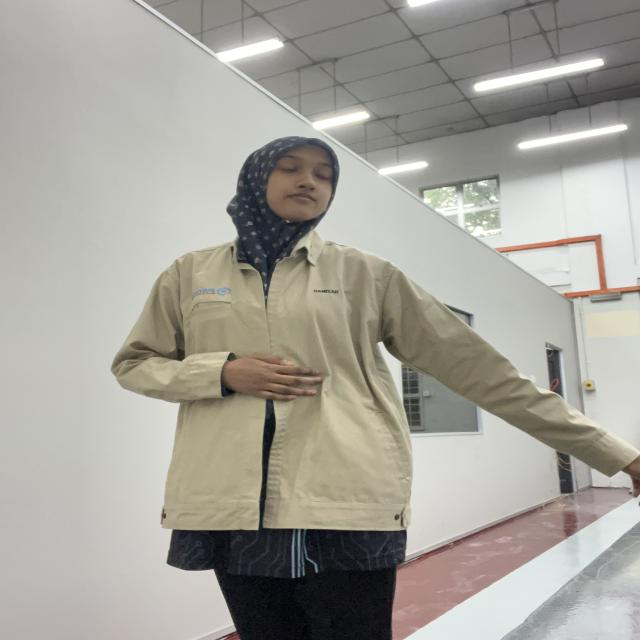person_with_labcoat: (112, 137, 640, 640)
